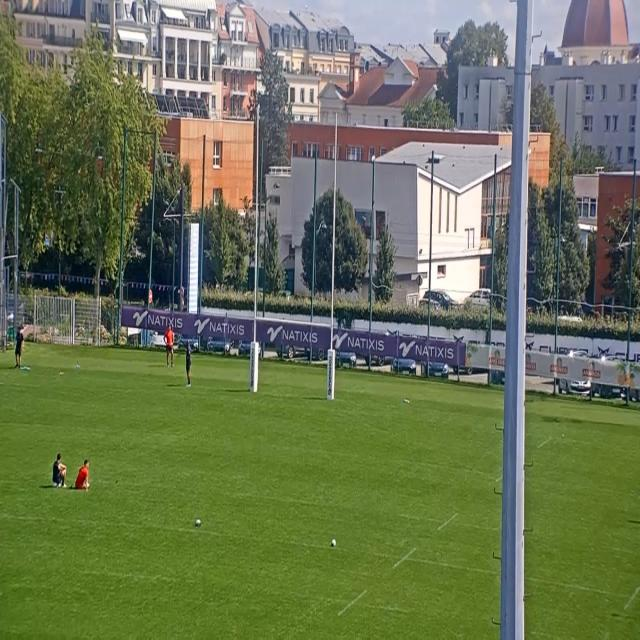rugby ball: (194, 512, 203, 536), (330, 534, 340, 552)
rugby play: (12, 314, 27, 378), (48, 450, 66, 492), (75, 458, 93, 494), (162, 319, 175, 366), (185, 336, 195, 384)
